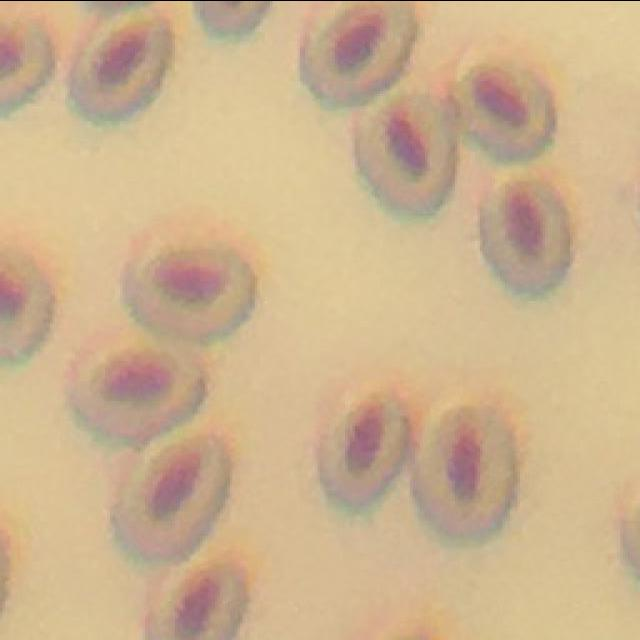RBC: (66, 329, 204, 445), (111, 436, 229, 560), (412, 408, 516, 536), (300, 0, 416, 104), (121, 249, 253, 340), (354, 95, 454, 215), (68, 10, 171, 119), (315, 394, 408, 510), (480, 181, 569, 290), (456, 65, 554, 160), (144, 564, 246, 640), (0, 250, 52, 362), (0, 21, 54, 114)
